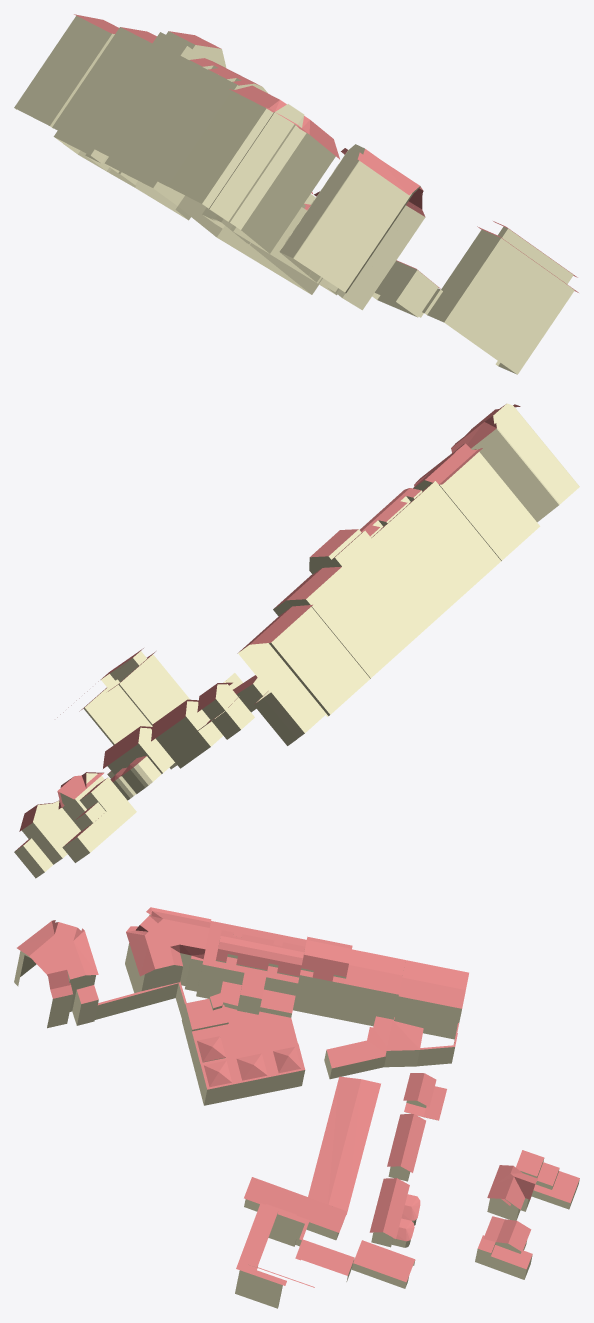
The model's file is tile_000.glb.
3 views of the same model, one above another, from view 1: azimuth 30°, elevation 25°; view 2: azimuth 150°, elevation 25°; view 3: azimuth 270°, elevation 25° (orthographic). The views are drawn at different scales.
Parts seen in each view (by area): view 1: Batched_Building_ID_87C59707-1B8B-4247-AE42-A0EFC0E48264, Batched_Building_ID_99C23DBA-36FF-4AEC-B504-2C2DE91D27CF; view 2: Batched_Building_ID_87C59707-1B8B-4247-AE42-A0EFC0E48264, Batched_Building_ID_99C23DBA-36FF-4AEC-B504-2C2DE91D27CF; view 3: Batched_Building_ID_99C23DBA-36FF-4AEC-B504-2C2DE91D27CF, Batched_Building_ID_87C59707-1B8B-4247-AE42-A0EFC0E48264.
Boxes of the visible parts, x1,y1,x2,y2 form: Batched_Building_ID_87C59707-1B8B-4247-AE42-A0EFC0E48264: (14, 16, 574, 374); Batched_Building_ID_99C23DBA-36FF-4AEC-B504-2C2DE91D27CF: (74, 14, 578, 292); Batched_Building_ID_87C59707-1B8B-4247-AE42-A0EFC0E48264: (14, 403, 579, 878); Batched_Building_ID_99C23DBA-36FF-4AEC-B504-2C2DE91D27CF: (15, 404, 520, 850); Batched_Building_ID_99C23DBA-36FF-4AEC-B504-2C2DE91D27CF: (17, 907, 579, 1287); Batched_Building_ID_87C59707-1B8B-4247-AE42-A0EFC0E48264: (14, 915, 579, 1308).
Bounding box in the file's own units: 113 × 93.76 × 167.
